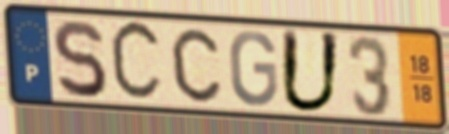3: (346, 32, 392, 120)
C: (107, 16, 166, 107), (168, 25, 224, 105)
G: (227, 28, 280, 109)
S: (49, 16, 110, 100)
U: (278, 26, 344, 116)
